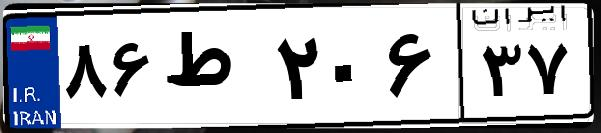0: (330, 28, 385, 110)
2: (270, 28, 330, 110)
3: (475, 38, 525, 113)
6: (385, 28, 445, 110), (110, 28, 158, 98)
7: (525, 38, 570, 115)
8: (57, 26, 110, 100)
ط: (158, 20, 270, 120)
